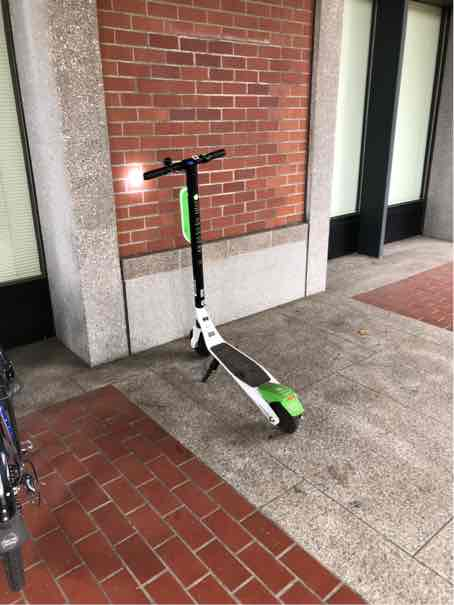scooter: (127, 140, 314, 433)
